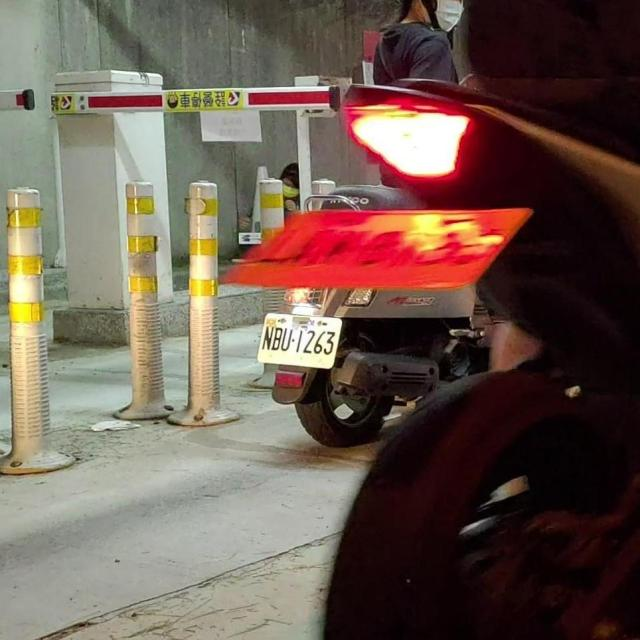W: (252, 307, 344, 370)
Y: (223, 202, 531, 294)
